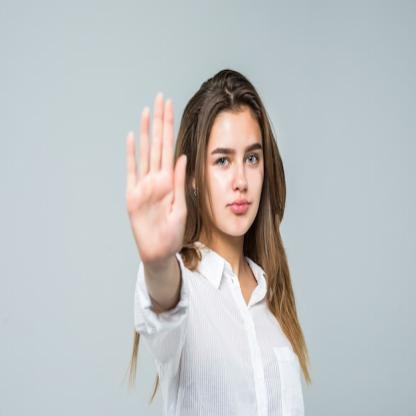stop: (124, 88, 192, 261)
